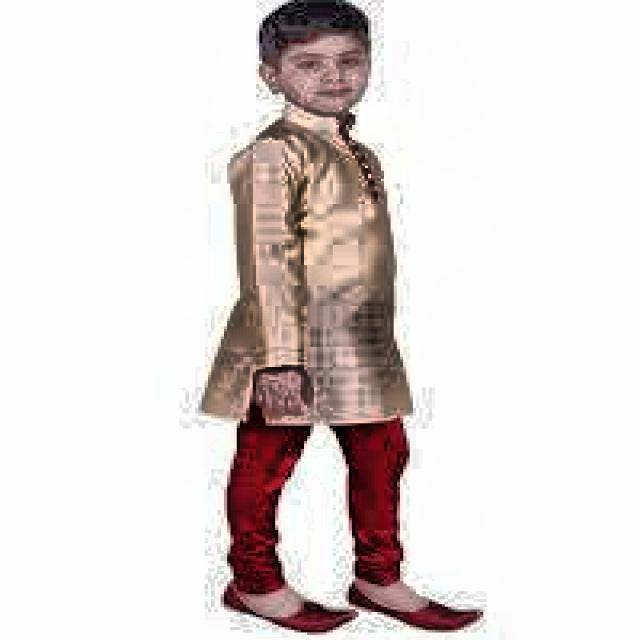Human: (187, 2, 540, 640)
